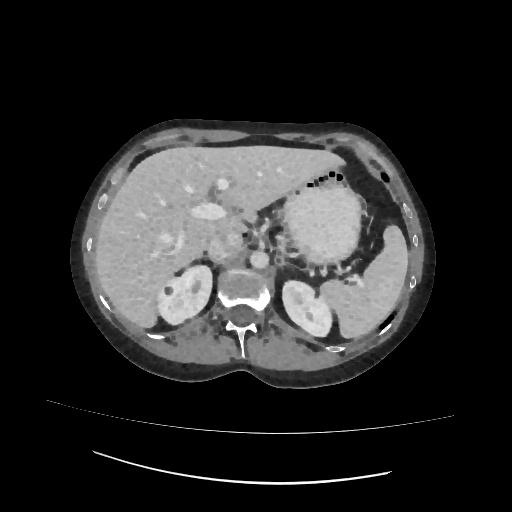Lesion: (159, 283, 177, 297)
